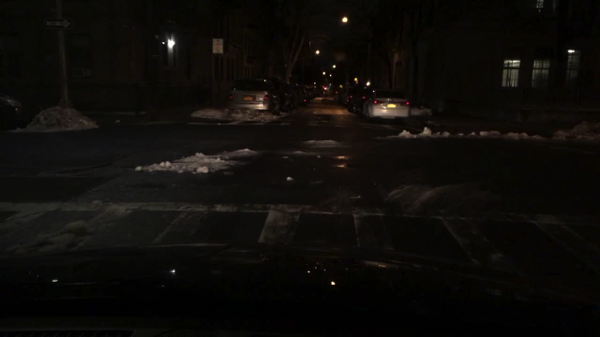car: (228, 79, 281, 115), (363, 88, 412, 125), (260, 75, 289, 110), (346, 84, 372, 114), (0, 95, 23, 128), (284, 83, 300, 107), (338, 84, 354, 104), (322, 86, 340, 103), (411, 105, 433, 118), (298, 84, 311, 104), (306, 86, 317, 99)
traffic sign: (45, 18, 73, 29), (212, 39, 224, 54)
